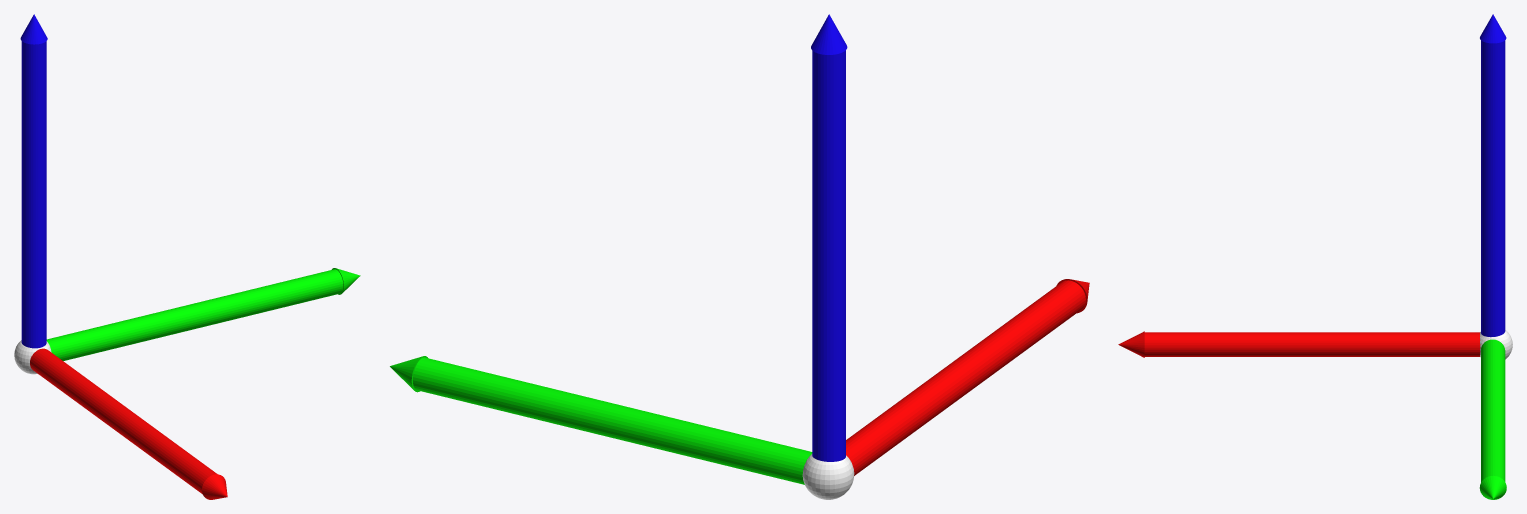
Rendered from referenceSystem.glb.
3 views of the same model, side by side, from view 1: azimuth 30°, elevation 25°; view 2: azimuth 150°, elevation 25°; view 3: azimuth 270°, elevation 25° (orthographic). The views are drawn at different scales.
Parts seen in each view (by area): view 1: Cylinder.001, Cylinder.002, Cylinder, Cone, Sphere, Cone.001; view 2: Cylinder.001, Cylinder.002, Cylinder, Sphere, Cone.001; view 3: Cylinder, Cylinder.001, Cylinder.002, Cone.002, Cone.001.
Boxes of the visible parts, left/top/right/bottom form: Cylinder.001: left=21, top=41, right=46, bottom=348; Cylinder.002: left=46, top=269, right=343, bottom=360; Cylinder: left=30, top=348, right=217, bottom=493; Cone: left=202, top=474, right=227, bottom=499; Sphere: left=14, top=340, right=51, bottom=374; Cone.001: left=20, top=14, right=47, bottom=44; Cylinder.001: left=812, top=50, right=845, bottom=461; Cylinder.002: left=413, top=357, right=812, bottom=484; Cylinder: left=846, top=280, right=1085, bottom=475; Sphere: left=802, top=454, right=854, bottom=499; Cone.001: left=811, top=14, right=847, bottom=54; Cylinder: left=1144, top=332, right=1480, bottom=356; Cylinder.001: left=1481, top=40, right=1505, bottom=337; Cylinder.002: left=1481, top=339, right=1505, bottom=482; Cone.002: left=1479, top=475, right=1506, bottom=499; Cone.001: left=1480, top=14, right=1506, bottom=43.
Size of the model in its own units: 9.63 by 9.62 by 9.9.
